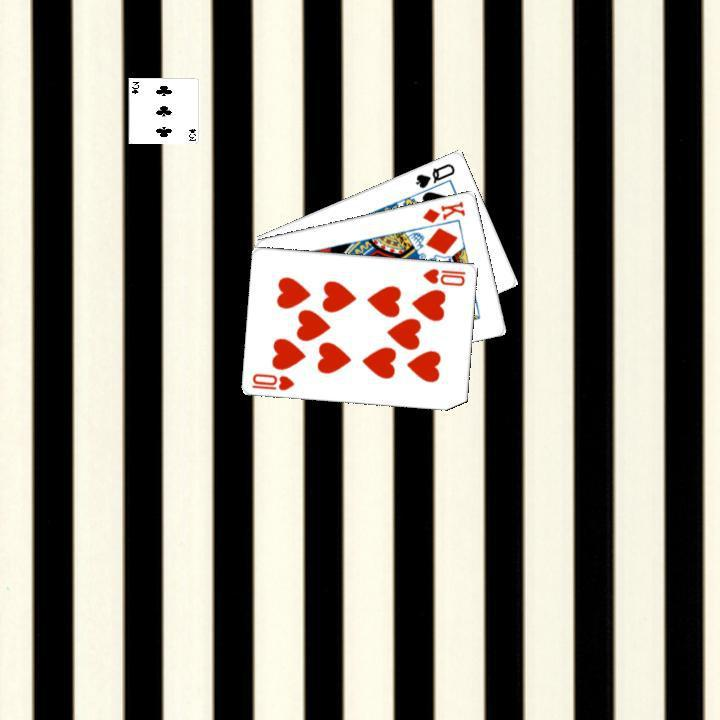10: (419, 264, 468, 287), (248, 369, 297, 392)
K: (418, 196, 467, 225)
Q: (411, 159, 457, 190)
